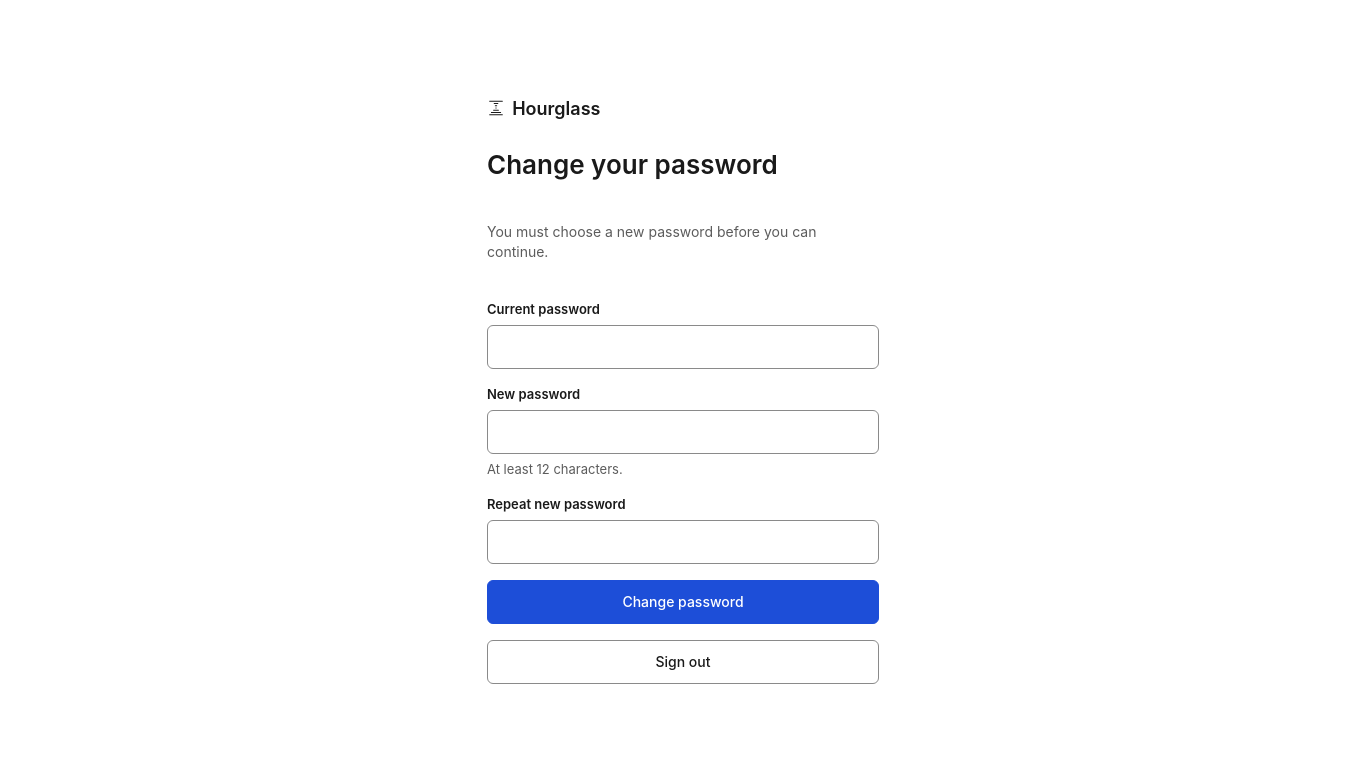
Test case: AUTH-7 change-password screen › sends the CSRF header and continues into the app on success
The image size is (1366, 768).
Type "old" into the password field labelled "Current password" at (683, 347), box [487,325,879,369]
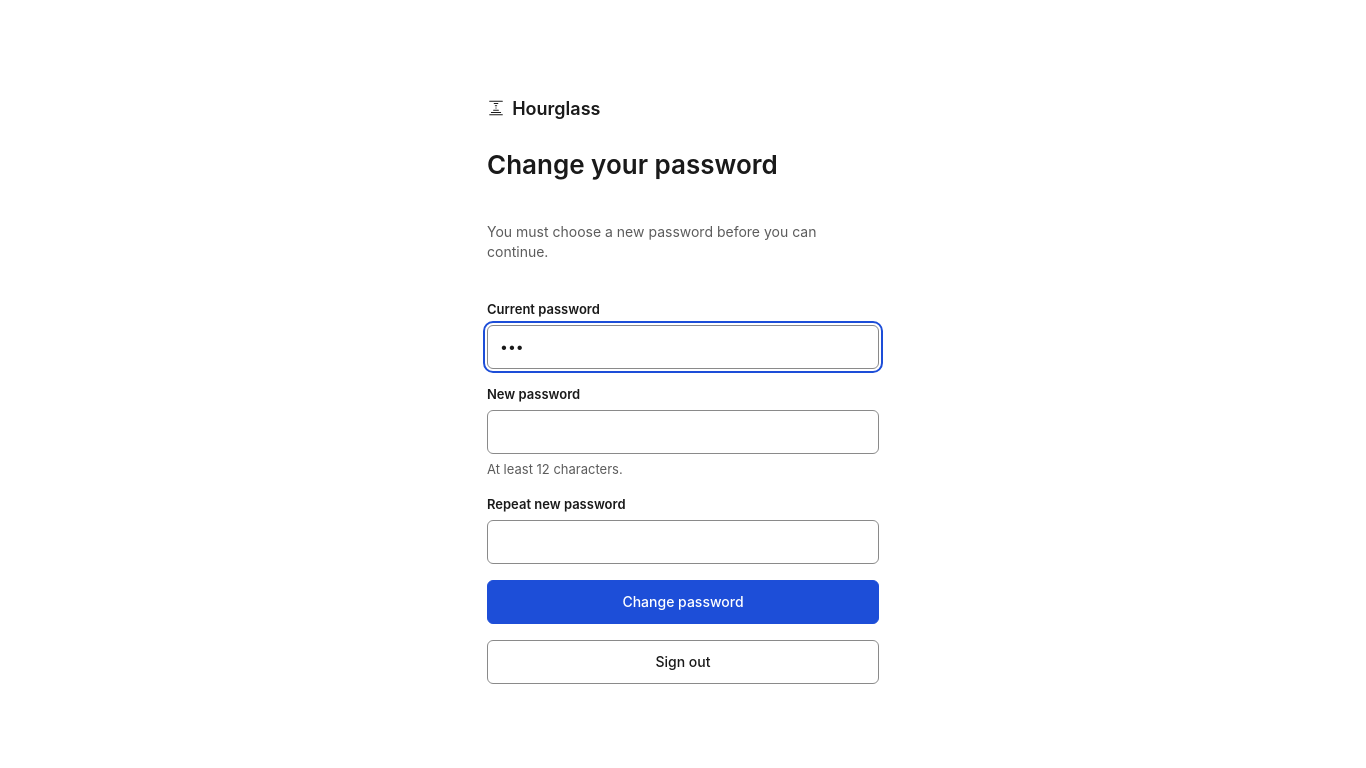
Type "a-long-enough-pw" into the password field labelled "New password" at (683, 432), box [487,410,879,454]
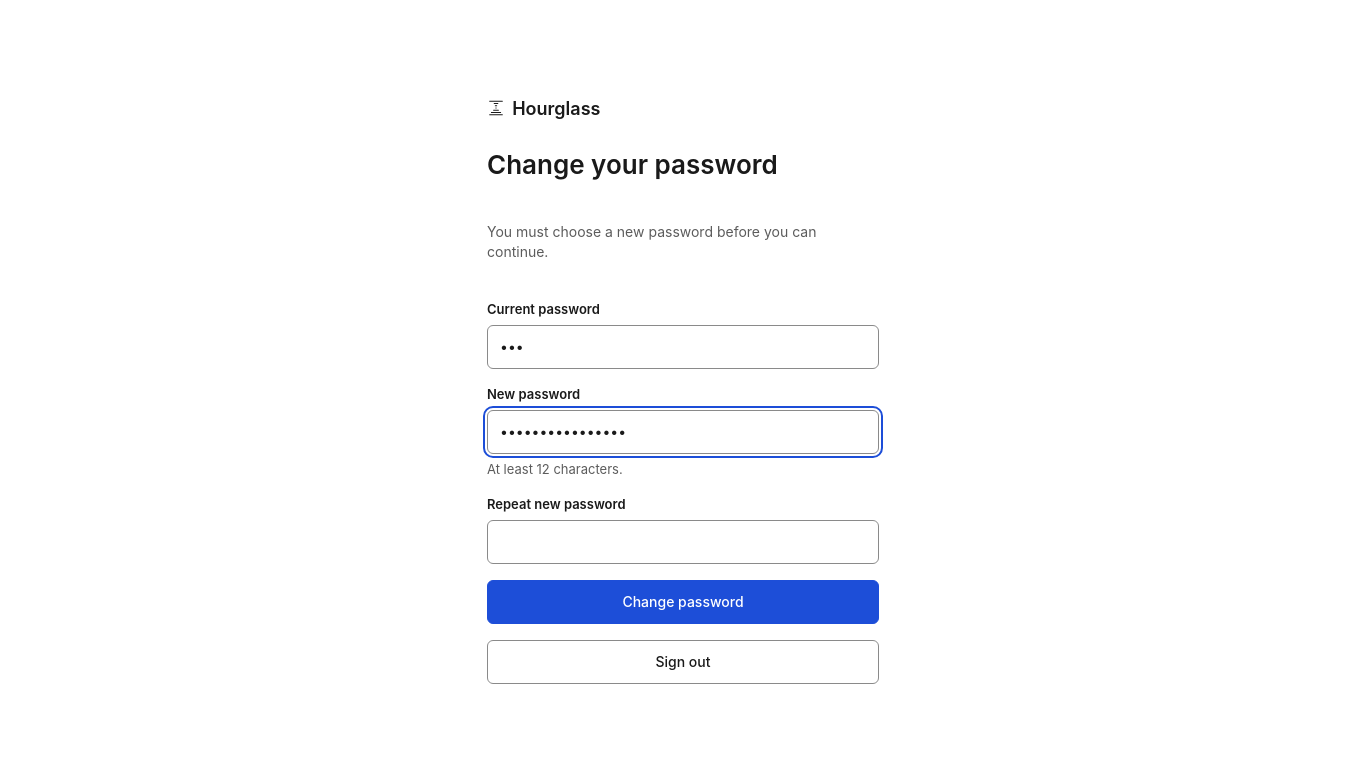
Type "a-long-enough-pw" into the password field labelled "Repeat new password" at (683, 542), box [487,520,879,564]
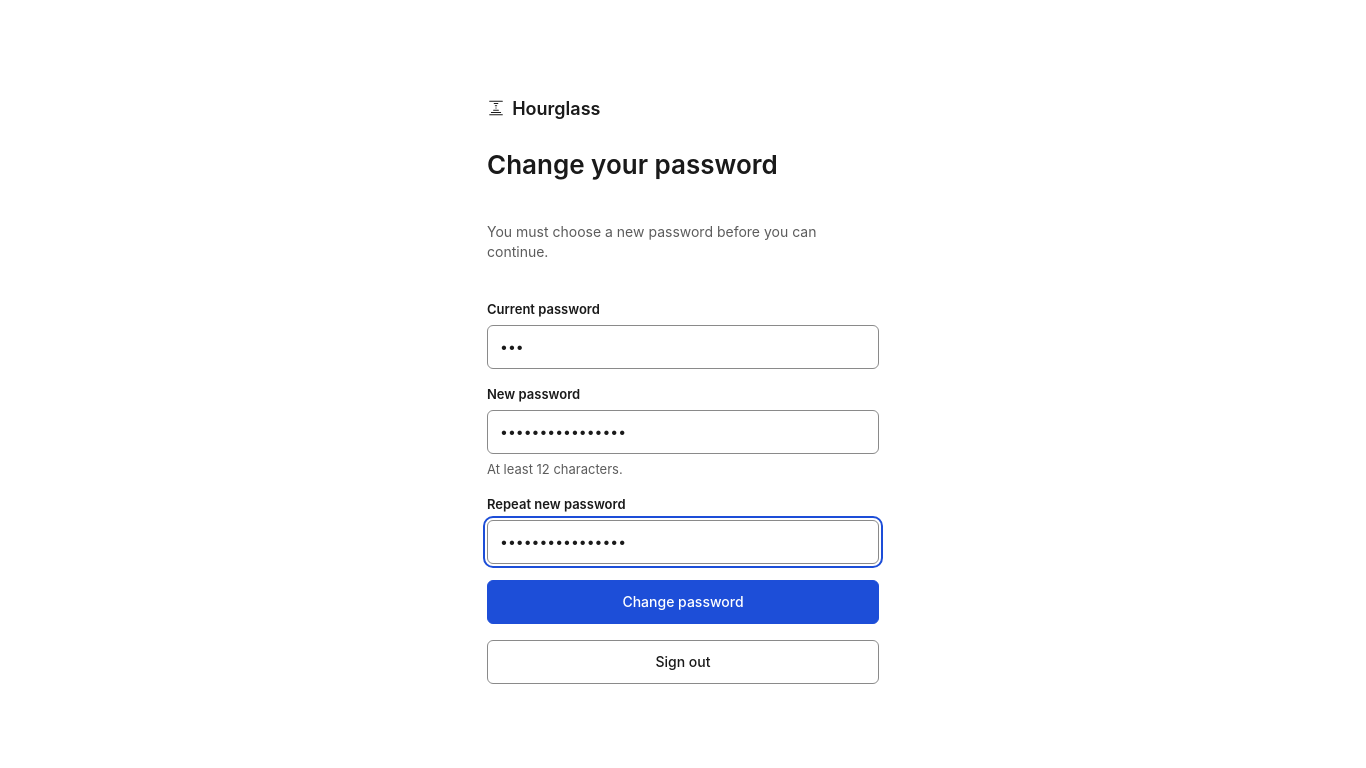
Click the button "Change password" at (683, 602), box [487,580,879,624]
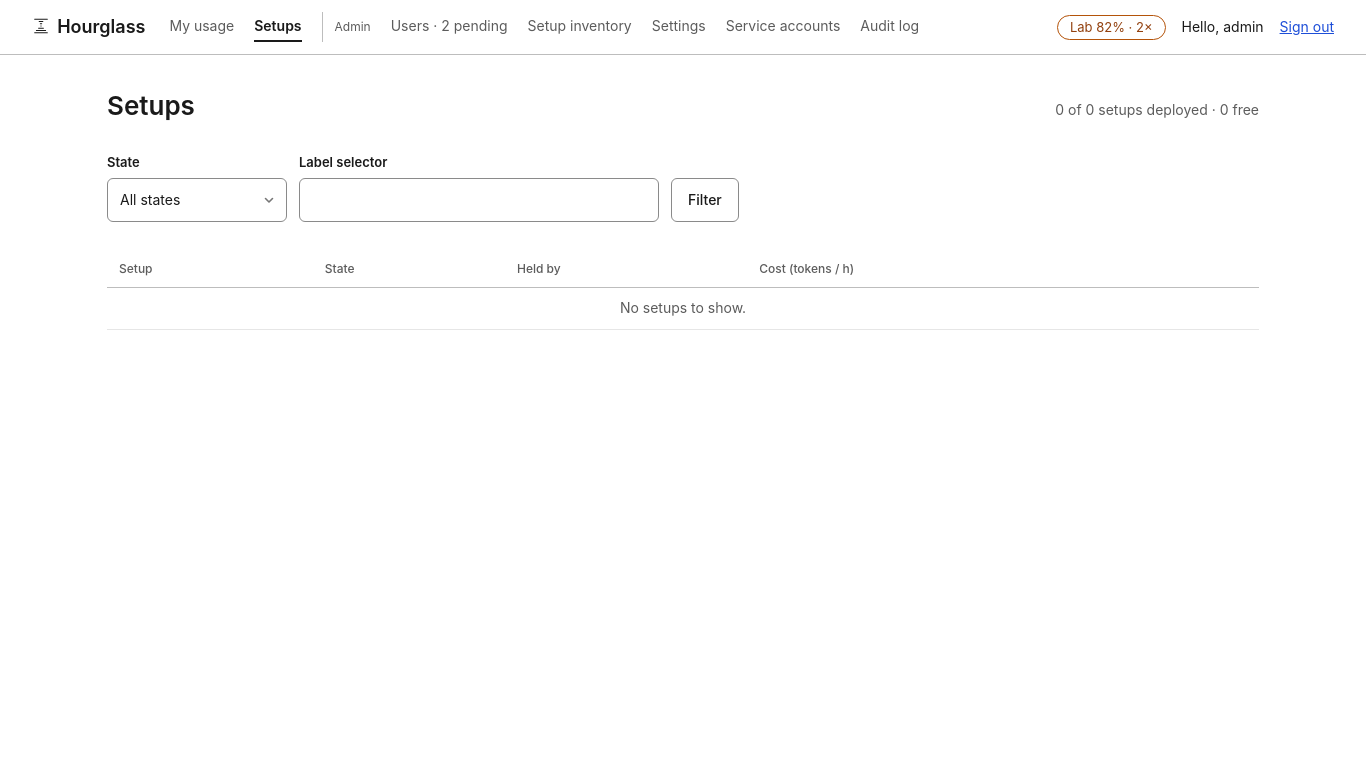
Now the heading "Setups" is shown, box [107,87,195,125]
